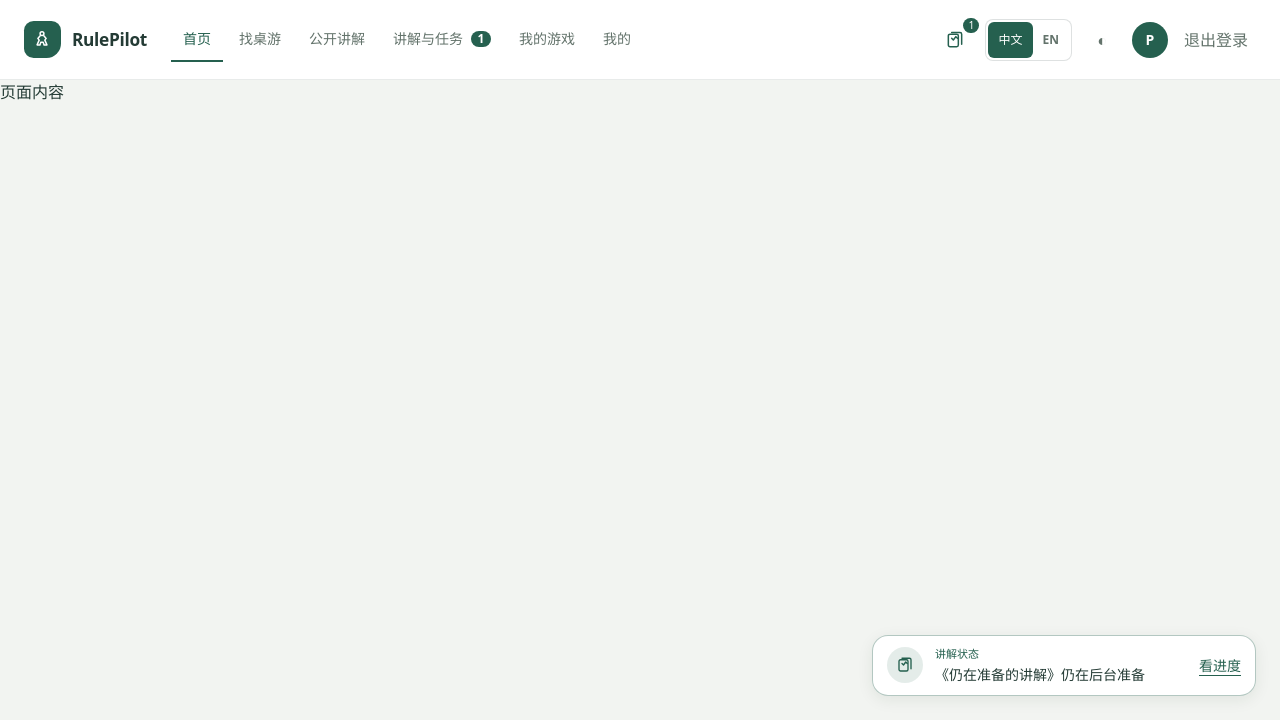
Test case: AppShell › does not pre-dismiss an active import preparation while clearing another failure
The width and height of the screenshot is (1280, 720).
Click the button with test id "background-work-trigger-desktop" at (956, 40), box 934,18 -> 978,62
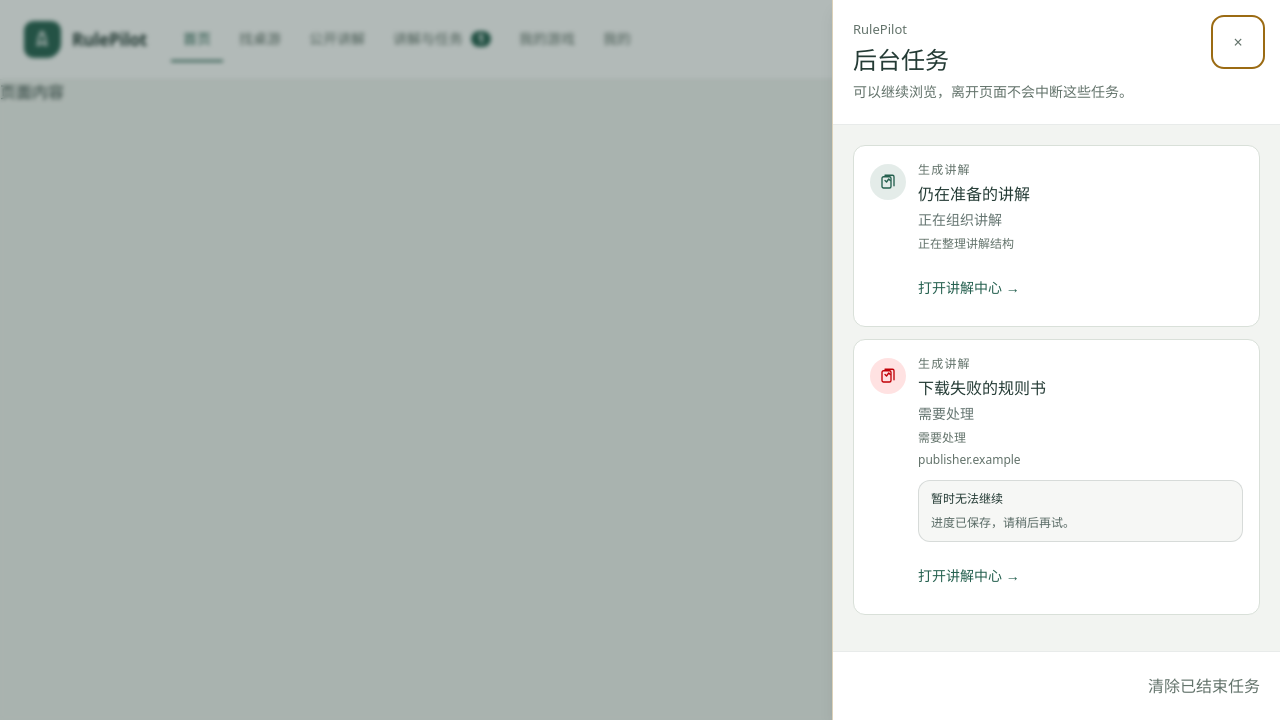
Check: the text "仍在准备的讲解" is shown, box 918,182 -> 1030,204
Check: the text "下载失败的规则书" is shown, box 918,376 -> 1046,398
Click the button "清除已结束任务" at (1204, 686), box 1148,664 -> 1260,708
Wait 4000 ms
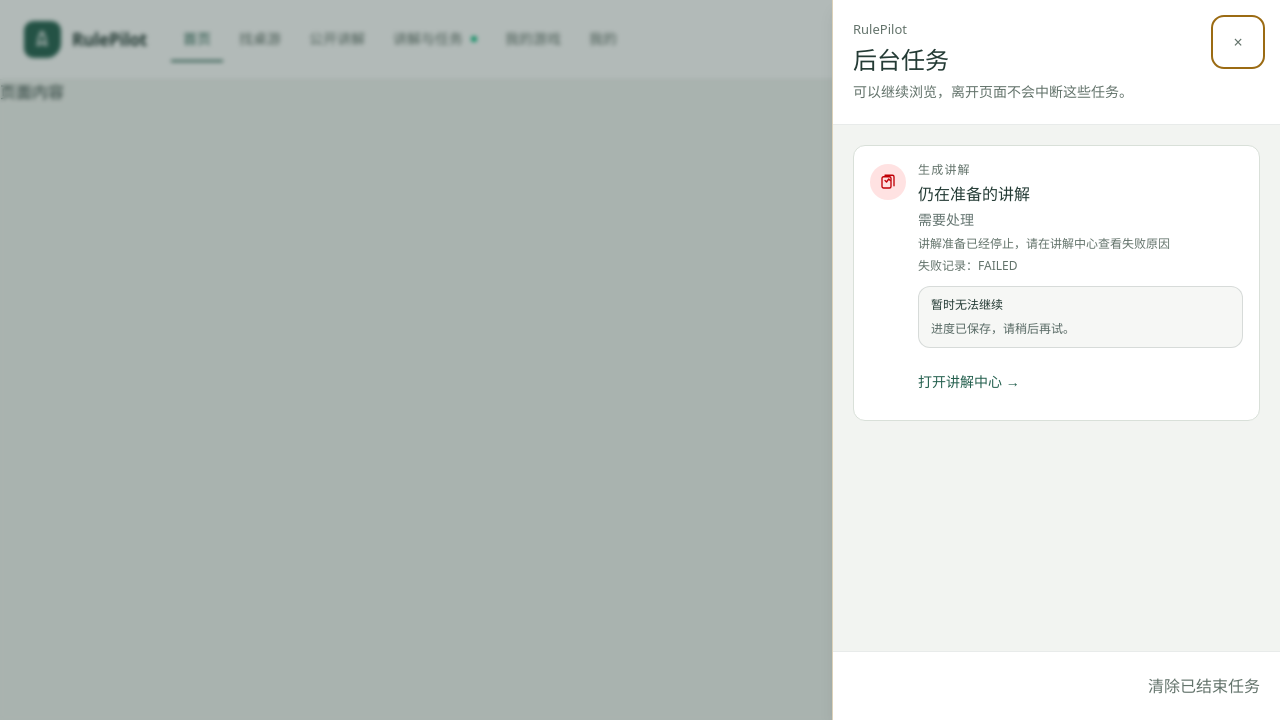
Check: the text "需要处理" is shown, box 918,210 -> 974,228
Check: the text "下载失败的规则书" is gone
Check: the text "讲解准备已经停止，请在讲解中心查看失败原因" is shown, box 918,234 -> 1170,252
